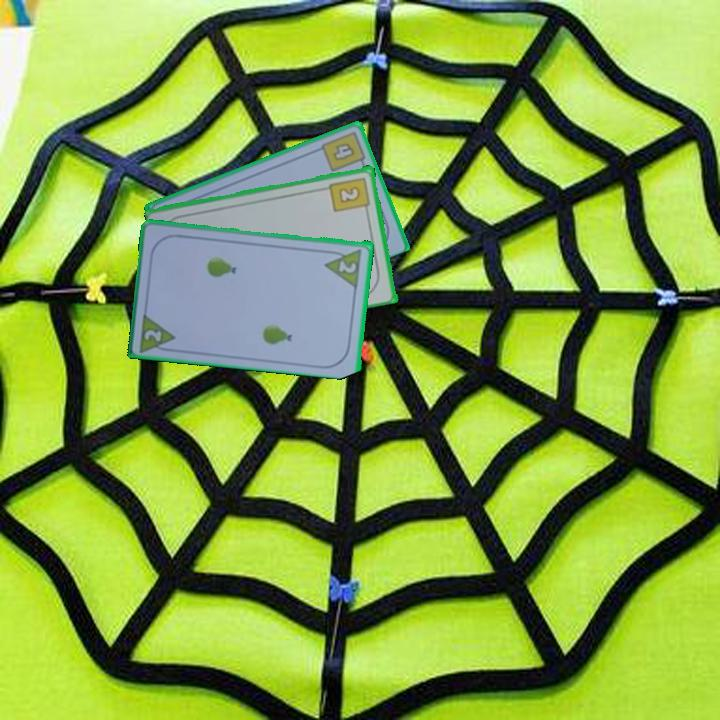2b: (327, 173, 373, 215)
2p: (136, 309, 179, 355), (322, 245, 365, 289)
4b: (318, 127, 369, 174)
